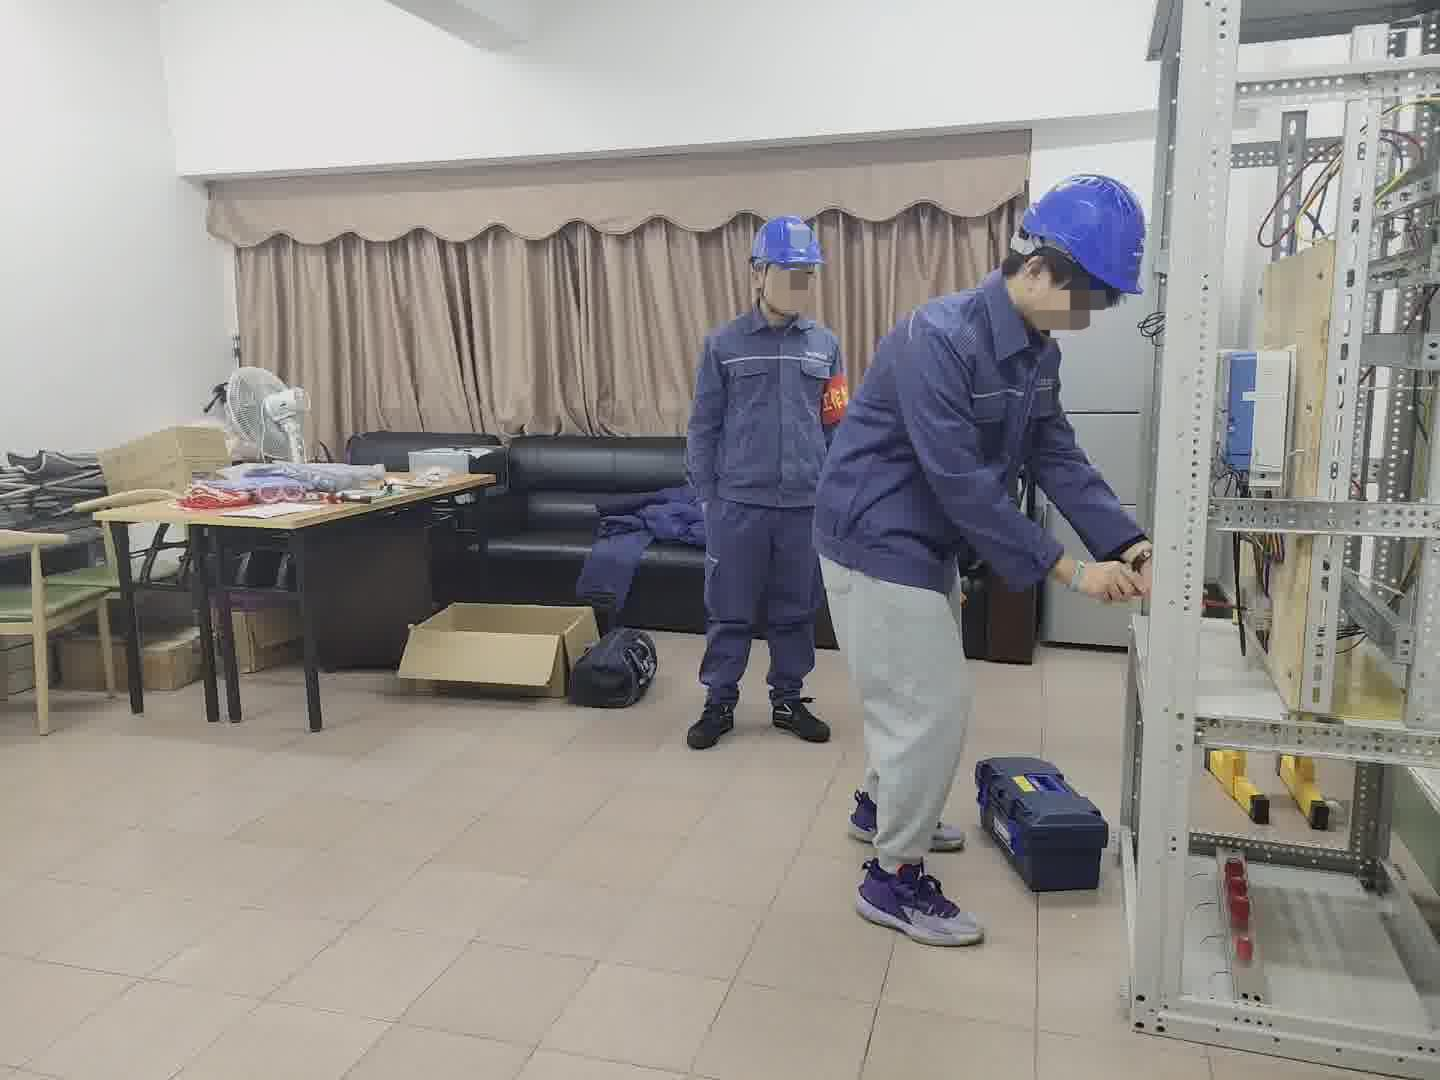halt: (1015, 176, 1153, 341), (751, 216, 831, 319)
inear: (749, 261, 776, 305)
noear: (1017, 246, 1057, 313)
